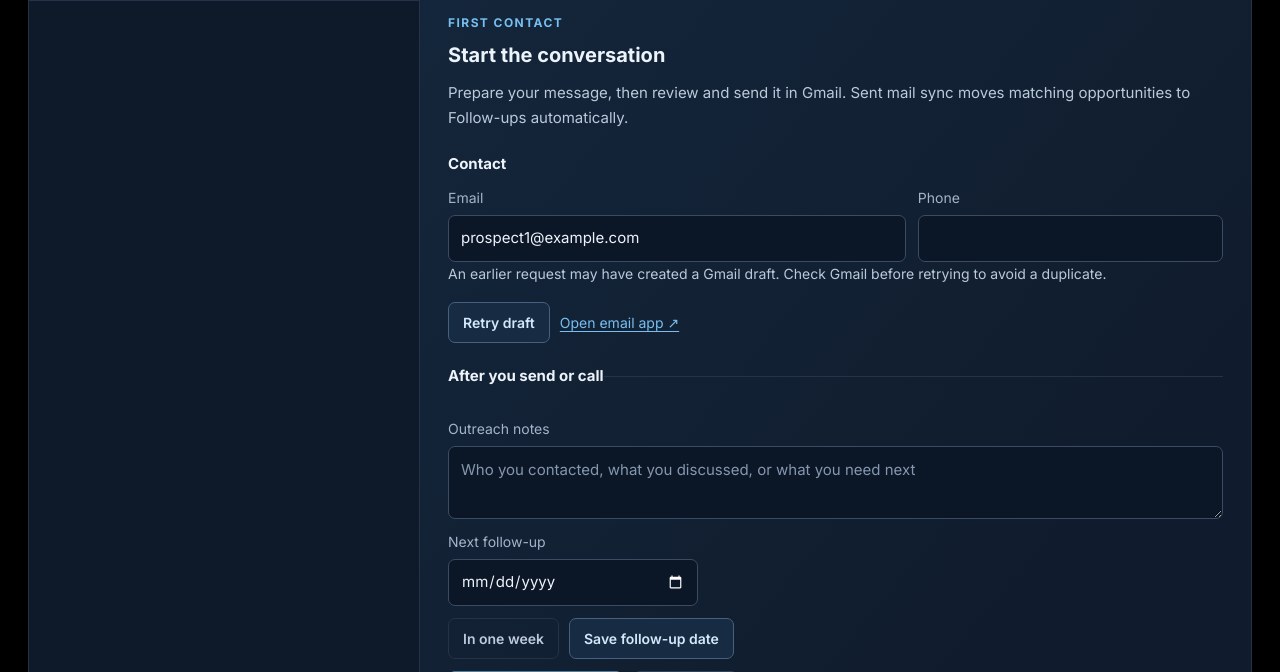
it: admin lead email drafting › allows a pending claim to be retried and leaves concurrency enforcement to the API
(page scrolled)
Expected: the text "An earlier request may have created a Gmail draft. Check Gmail before retrying to avoid a duplicate." is shown, 448,265 -> 1106,282
What coordinates should you click on to do the following:
click the button "Retry draft"
I would click on:
 (499, 322)
Its box is 448,302 -> 550,343.
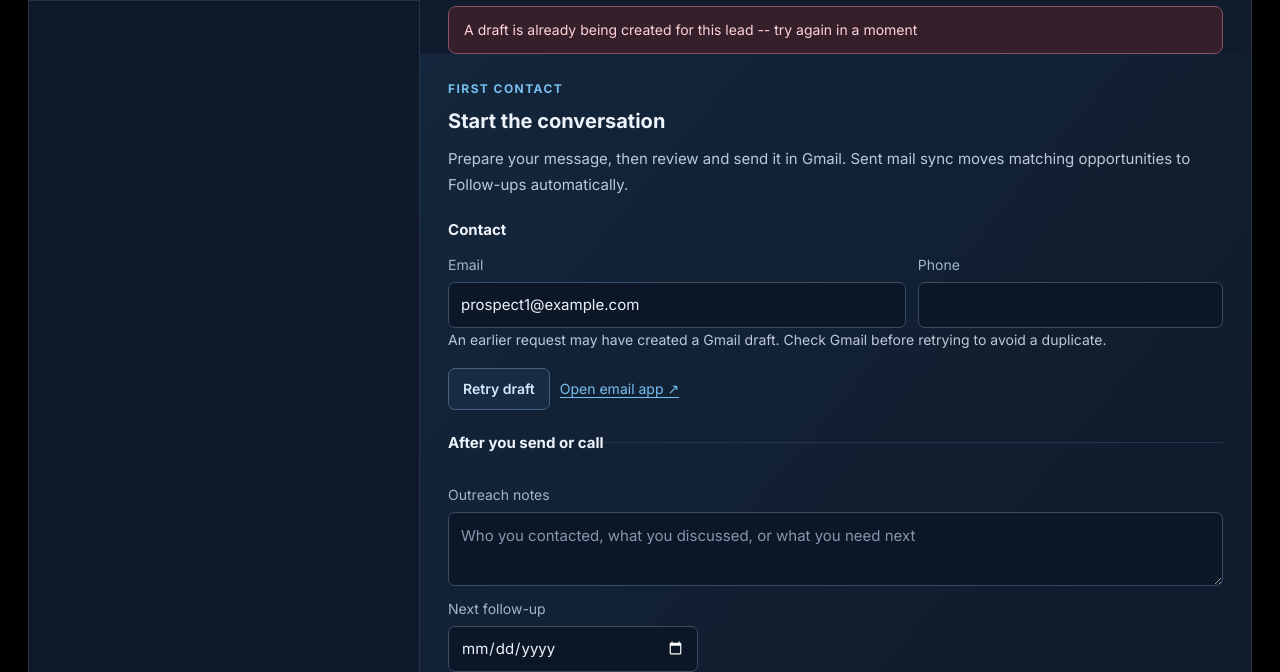
Expected: the message shows "A draft is already being created", 464,21 -> 917,38
What coordinates should you click on to do the following:
click the button "Retry draft"
I would click on:
 (499, 389)
Its box is 448,368 -> 550,410.
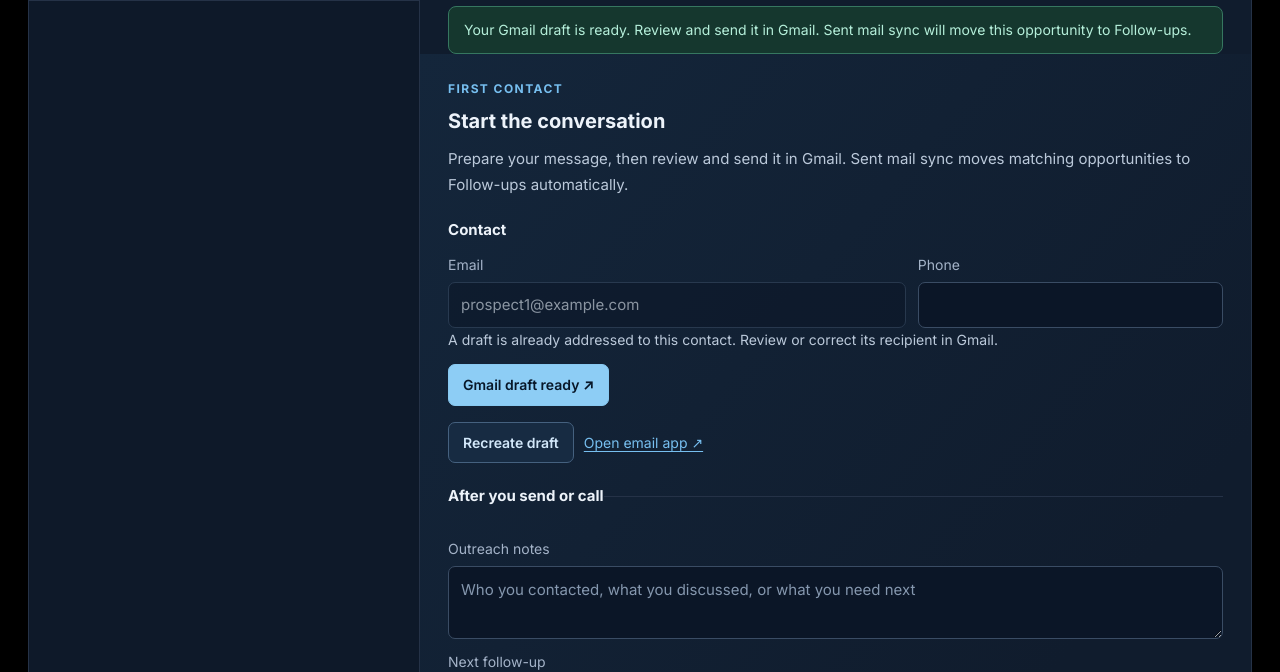
Expected: the button "Retry draft" is gone
